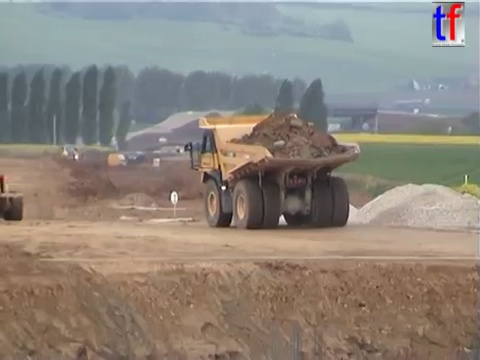motor grader: (1, 170, 25, 223)
truck: (182, 112, 363, 231)
